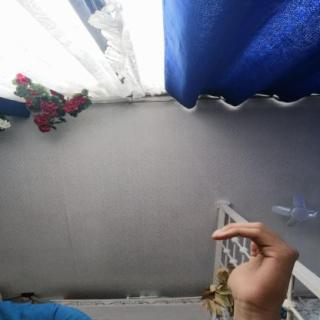HAA: (199, 214, 308, 311)
